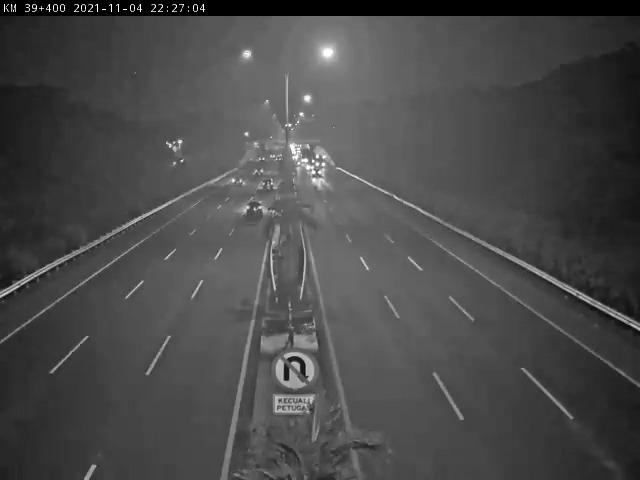car: (245, 200, 265, 217)
